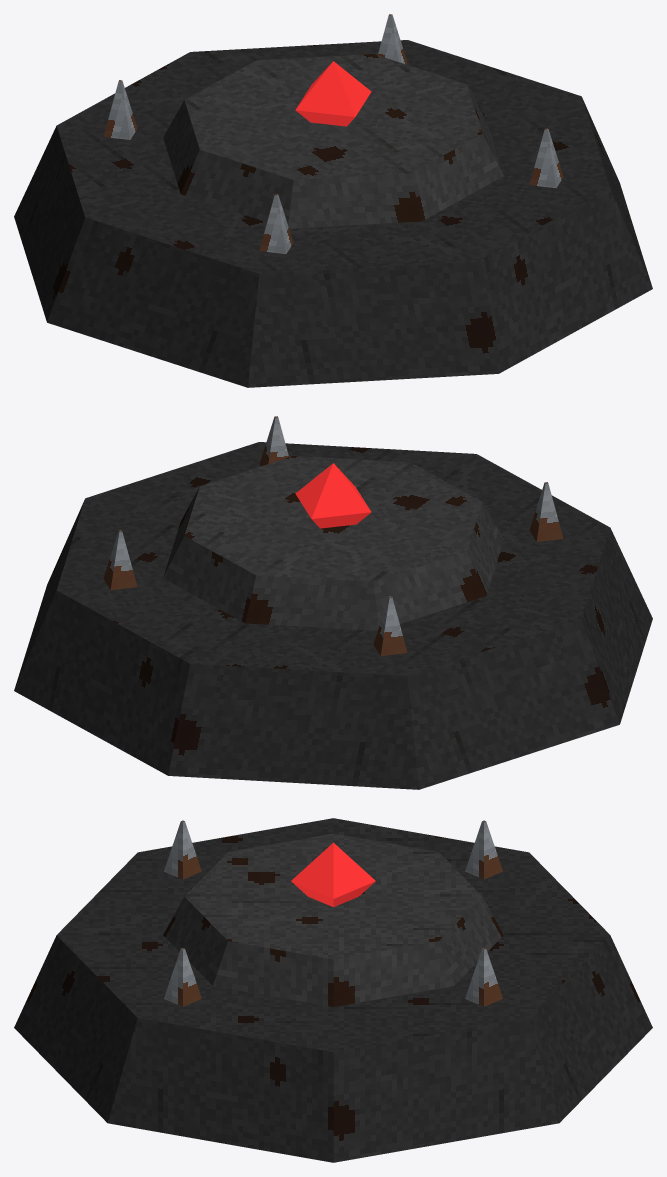
Rendered from projectile_mine.glb.
The picture shows the model from 3 angles, top to bottom: view 1: azimuth 30°, elevation 25°; view 2: azimuth 150°, elevation 25°; view 3: azimuth 270°, elevation 25°; orthographic projection. The views are drawn at different scales.
Visible parts, largest first — view 1: mine; view 2: mine; view 3: mine.
Part boxes in pixels (bbox=[...]): mine: bbox=[14, 14, 652, 387]; mine: bbox=[14, 416, 652, 789]; mine: bbox=[14, 818, 652, 1162].
Bounding box in the file's own units: 15 × 4.8 × 15.
Materials: 7 (6 with a texture image).
